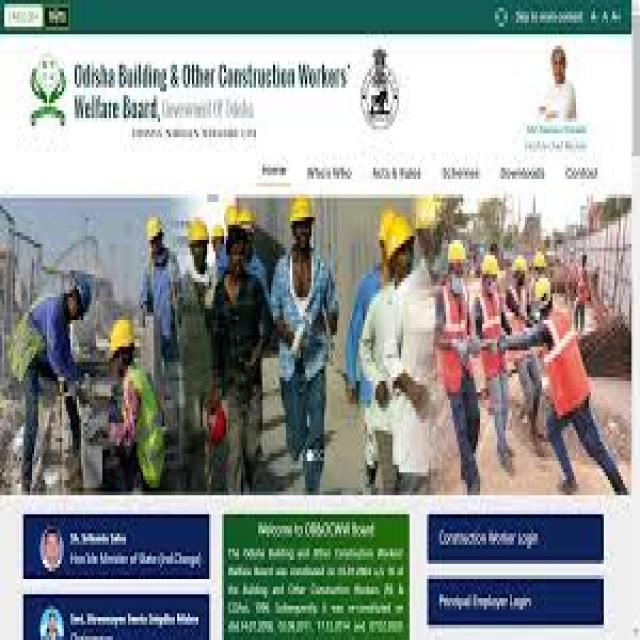Reflective-Jacket: (113, 366, 169, 491), (536, 308, 593, 426), (437, 282, 474, 396), (476, 293, 506, 381)
Safety-Helmet: (373, 202, 418, 267), (284, 183, 320, 236), (222, 194, 258, 244), (66, 263, 98, 316), (105, 312, 138, 362), (184, 210, 209, 252), (141, 210, 168, 248), (444, 236, 469, 271), (480, 251, 501, 282), (534, 252, 548, 270)
